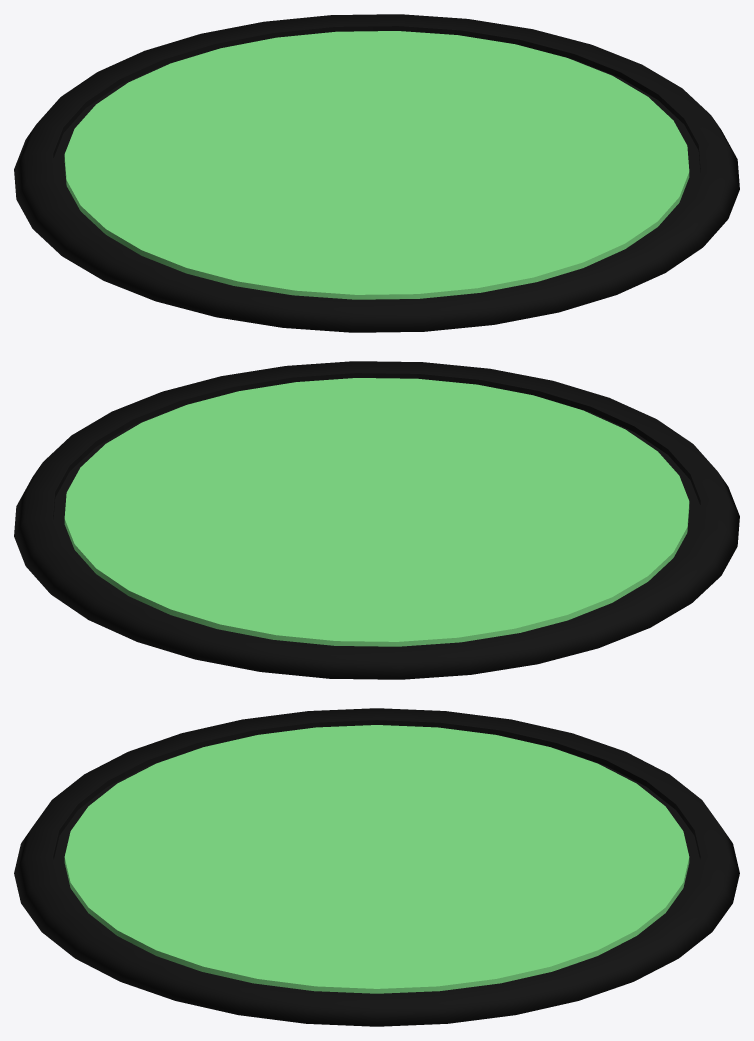
Rendered from circular_floor_detector.fbx.
The picture shows the model from 3 angles, top to bottom: view 1: azimuth 30°, elevation 25°; view 2: azimuth 150°, elevation 25°; view 3: azimuth 270°, elevation 25°; orthographic projection.
Parts seen in each view (by area): view 1: Detector; view 2: Detector; view 3: Detector.
Part boxes in pixels (bbox=[...]): Detector: bbox=[14, 14, 739, 332]; Detector: bbox=[14, 361, 739, 679]; Detector: bbox=[14, 708, 739, 1026].
Size of the model in its own units: 200 by 5 by 200.
